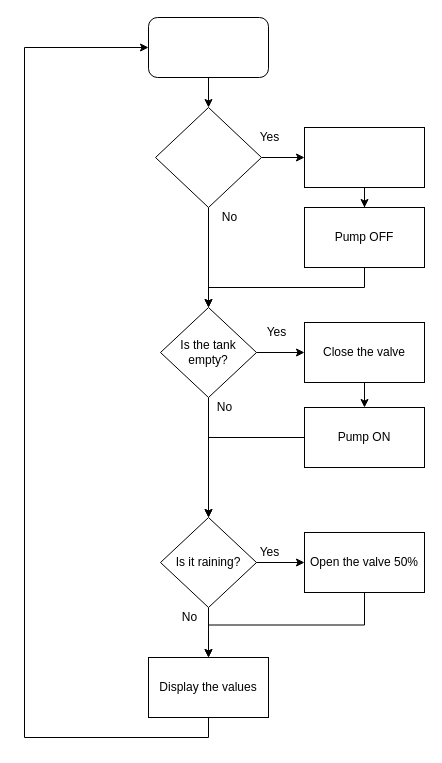
Image size: 442x763. Some labels were removed from this diagram. Each missing label, with the centre of its shape:
Is the tank full?: the point at 208,157
Open valve: the point at 364,157
STAND-BY: the point at 208,47
